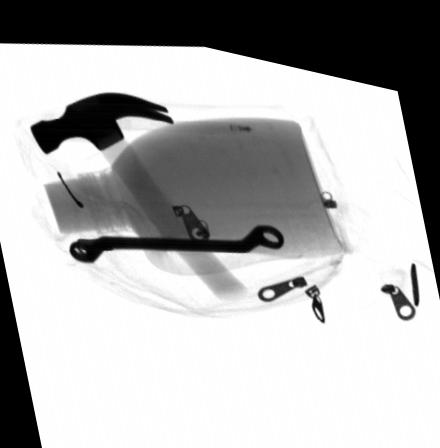Hammer: (27, 86, 248, 292)
Wrench: (68, 212, 284, 257)
